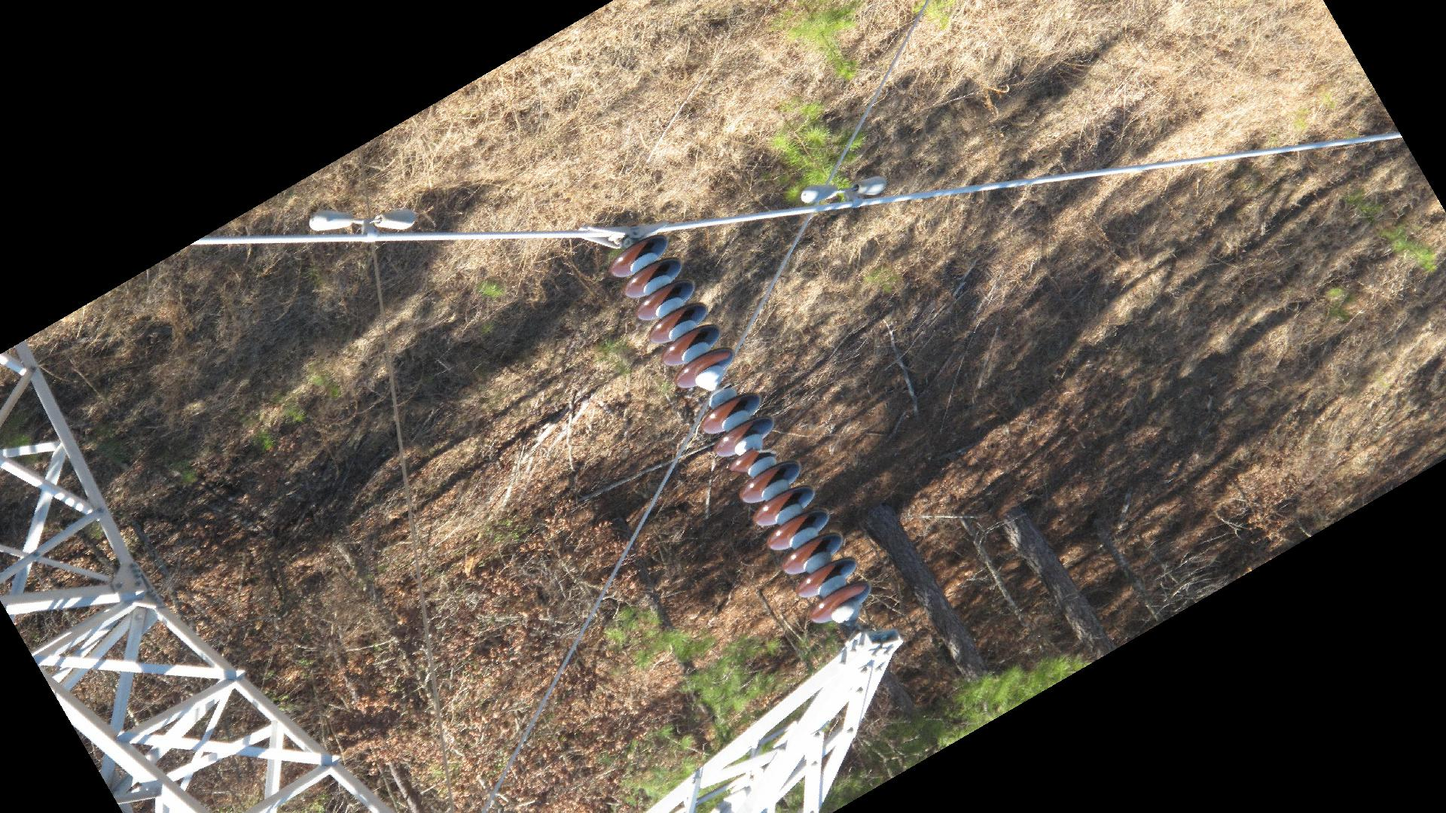insulator: (696, 388, 876, 629), (606, 232, 737, 392)
insulator_breakage: (746, 445, 780, 457)
